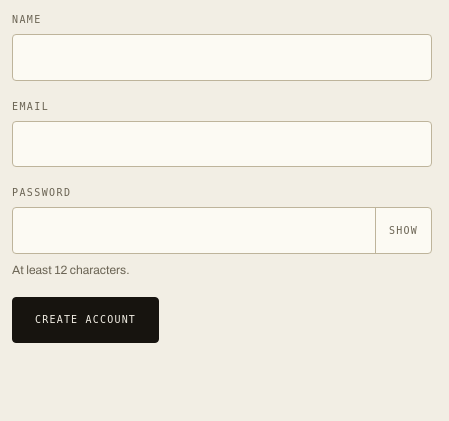
SignUpForm › reports a server-side failure
This screenshot has width=449, height=421.
In the field labelled "NAME": (222,57) [12,34,432,80], type "Asha"
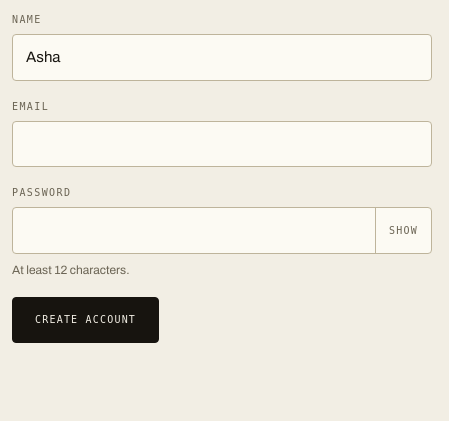
In the field labelled "EMAIL": (222,144) [12,120,432,167], type "asha@example.com"
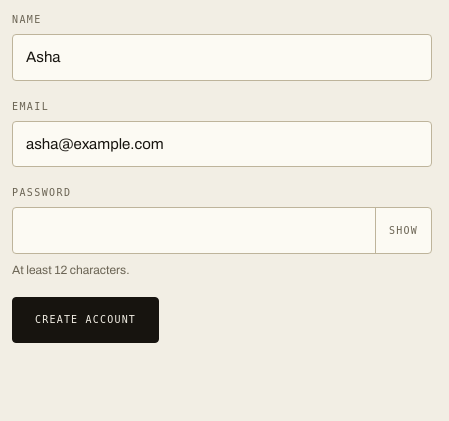
In the password field labelled "PASSWORD": (222,230) [12,207,432,254], type "a-sufficiently-long-password"
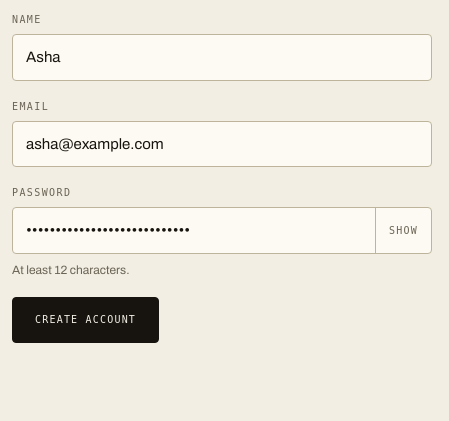
Click the button "CREATE ACCOUNT": (86,320) [12,296,159,342]
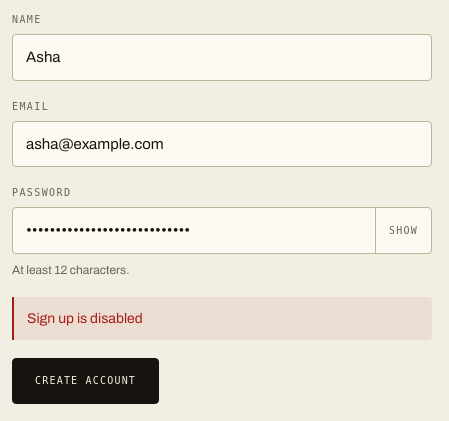
Check: the message reads "Sign up is disabled", box [27,310,143,326]
